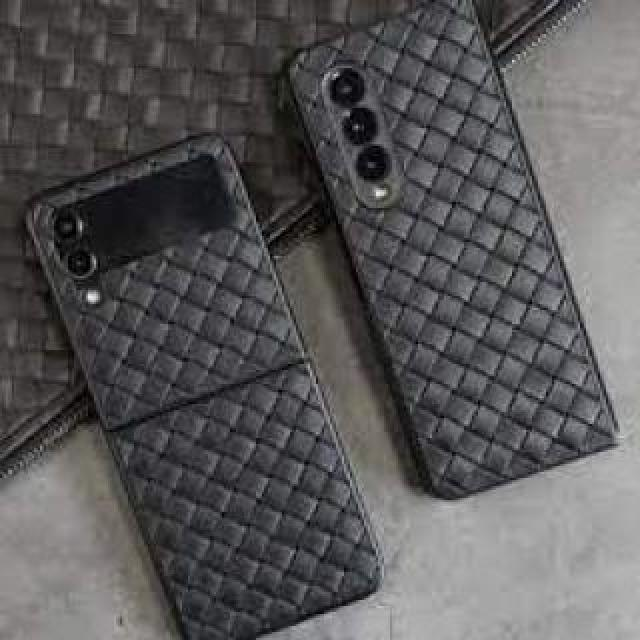smart phone: (22, 110, 333, 627), (280, 2, 597, 463)
